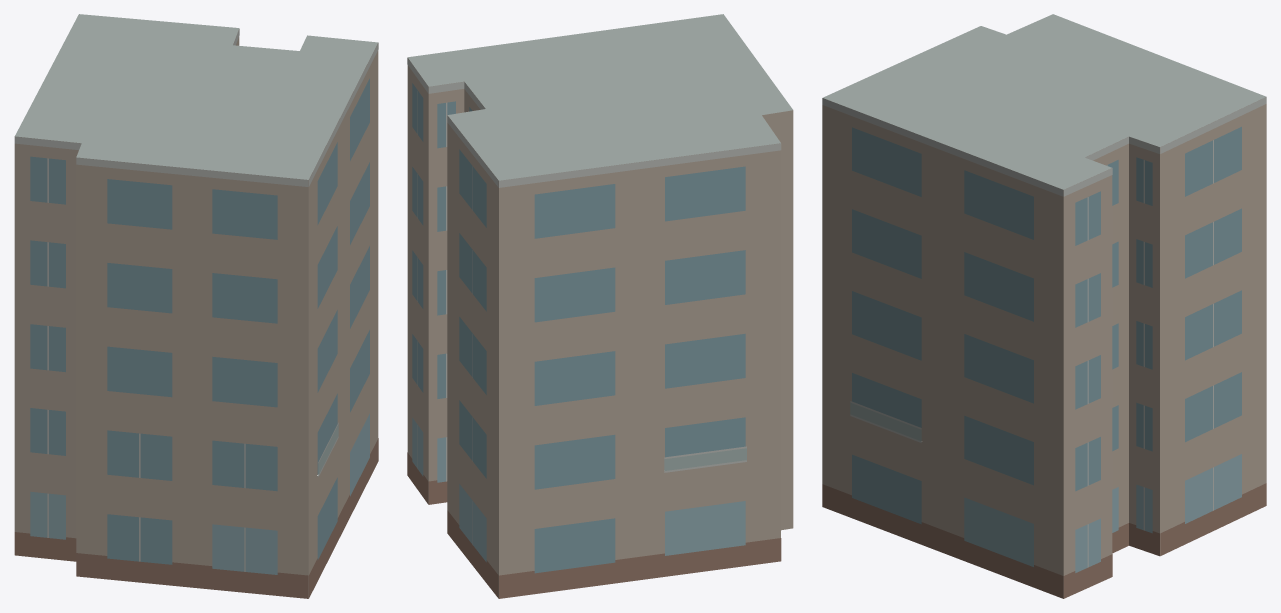
The model's file is survey-upis-32712096.glb.
3 views of the same model, side by side, from view 1: azimuth 30°, elevation 25°; view 2: azimuth 150°, elevation 25°; view 3: azimuth 270°, elevation 25° (orthographic). The views are drawn at different scales.
Visible parts, largest first — view 1: survey-upis-32712096.tmp; view 2: survey-upis-32712096.tmp; view 3: survey-upis-32712096.tmp.
Boxes of the visible parts, box(x1,y1,x2,y2) form: survey-upis-32712096.tmp: box(14, 14, 378, 598); survey-upis-32712096.tmp: box(407, 14, 793, 598); survey-upis-32712096.tmp: box(822, 14, 1266, 598).
Bounding box in the file's own units: 13.1 × 14.2 × 13.98.
